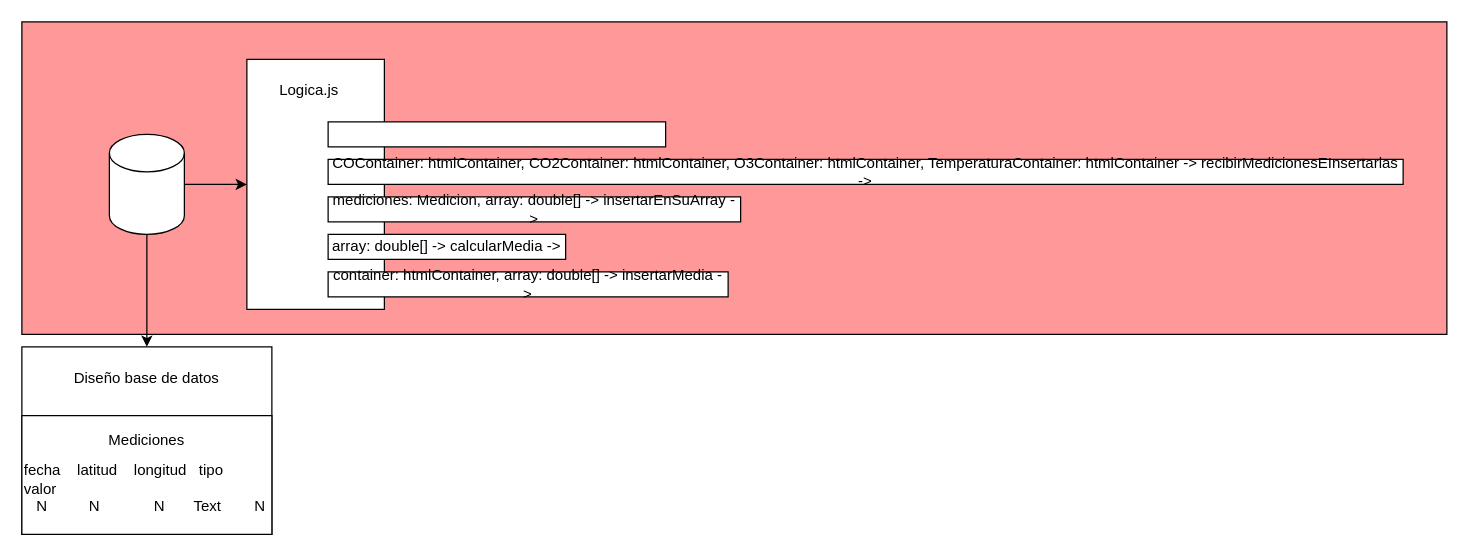
This 1469x556 diagram has some shape labels left out. Here are the shapes that lost their labels. From the top down, the centre of each, then its label:
At point 496,134: "doc: FirestoreDocument -> insertarEnLaTabla ->".
At point 146,183: "DB".
